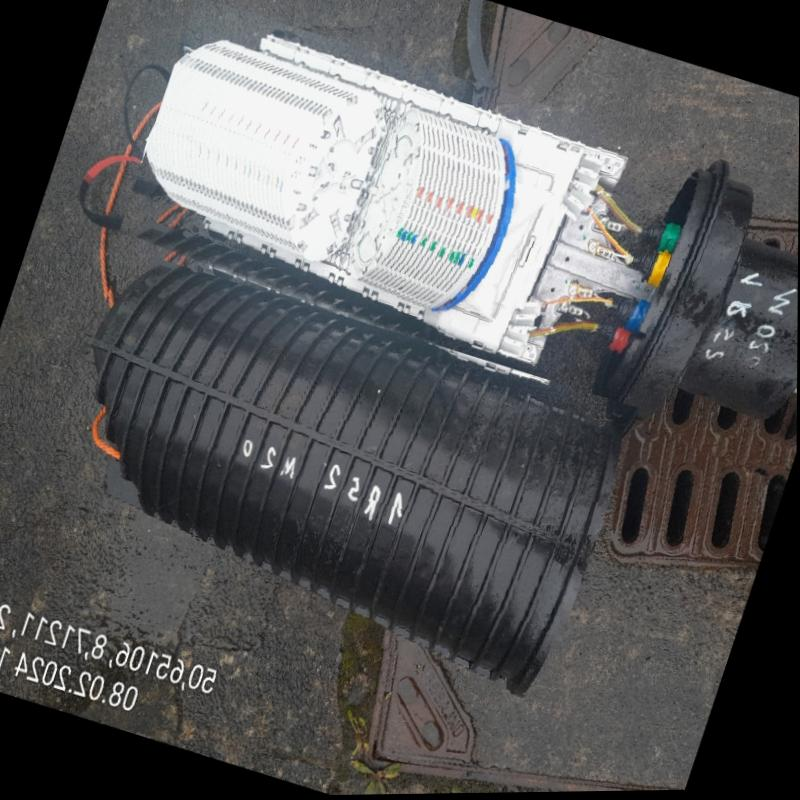NT-Muffen: (139, 33, 798, 430), (83, 261, 629, 695)
